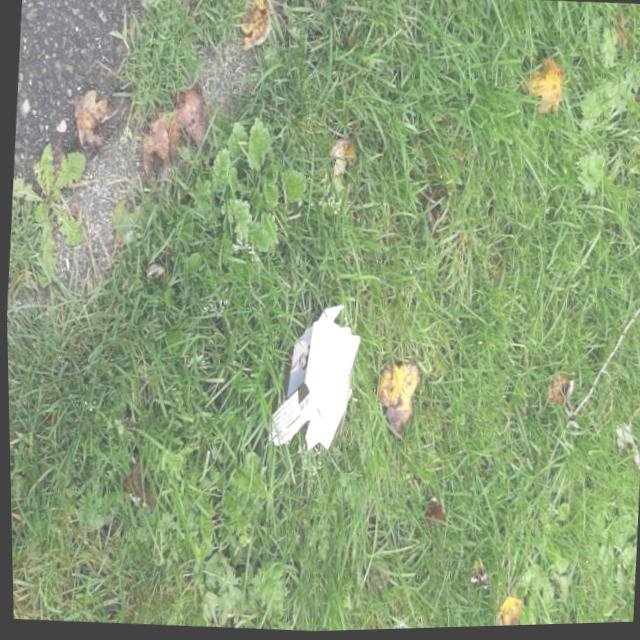Paper: (261, 298, 364, 458)
